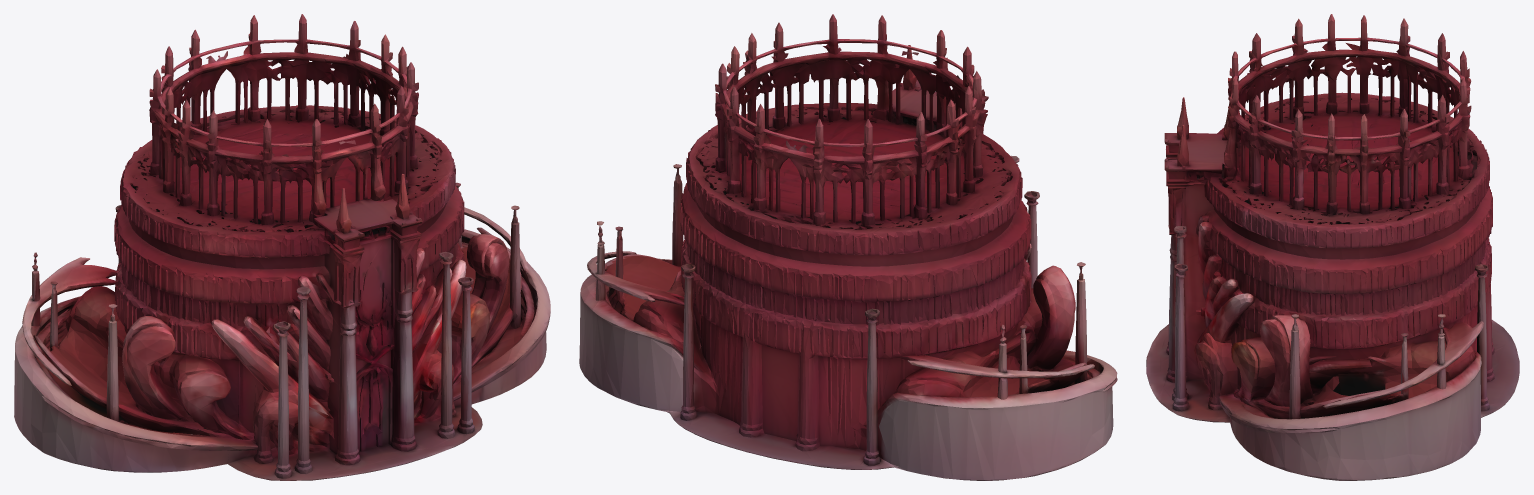
The model's file is rcastle.fbx.
The picture shows the model from 3 angles, left to right: view 1: azimuth 30°, elevation 25°; view 2: azimuth 150°, elevation 25°; view 3: azimuth 270°, elevation 25°; orthographic projection. The views are drawn at different scales.
Parts seen in each view (by area): view 1: model; view 2: model; view 3: model.
Part boxes in pixels (x1,y1,x2,y2): model: [14, 14, 550, 480]; model: [579, 14, 1117, 480]; model: [1146, 14, 1519, 480].
Size of the model in its own units: 186 by 115 by 128.
